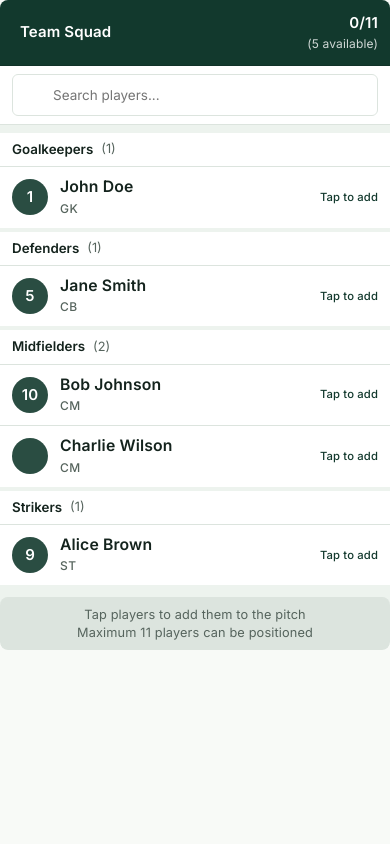
Test: PlayerSelectionPanel › Search Functionality › filters players by name
Type "John" into the field with placeholder "Search players..." at x=195, y=95, box [12,74,378,116]
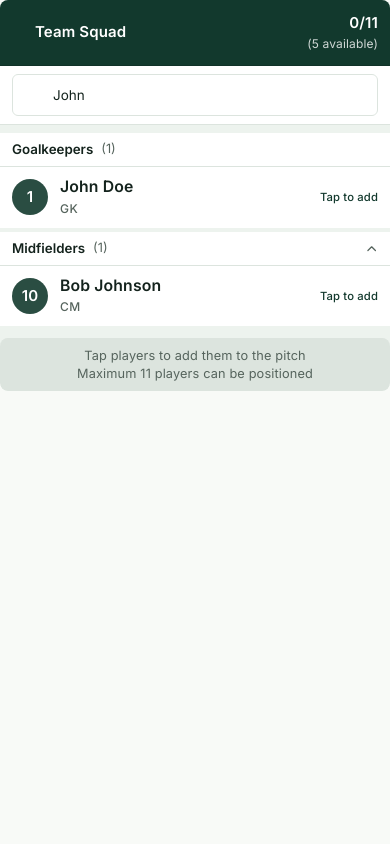
Expected: the text "John Doe" is shown, [60,177,133,196]
Now the text "Jane Smith" is gone
